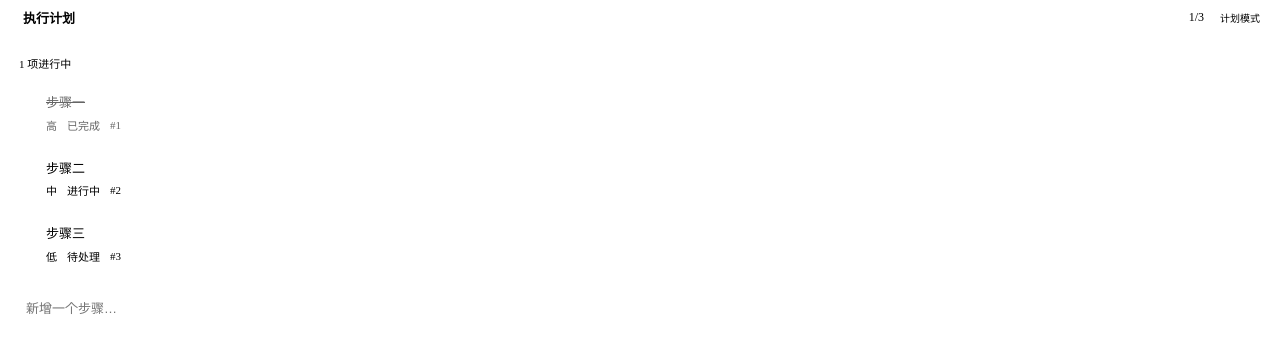
Test: PlanPanel 编辑器(对齐 EchoAgent plan-editor) › 计划新增及编辑不会被中文输入法候选确认提前提交
Type "中文步骤" into the field named "新增步骤" at [601, 308], box [16,294,1186,322]
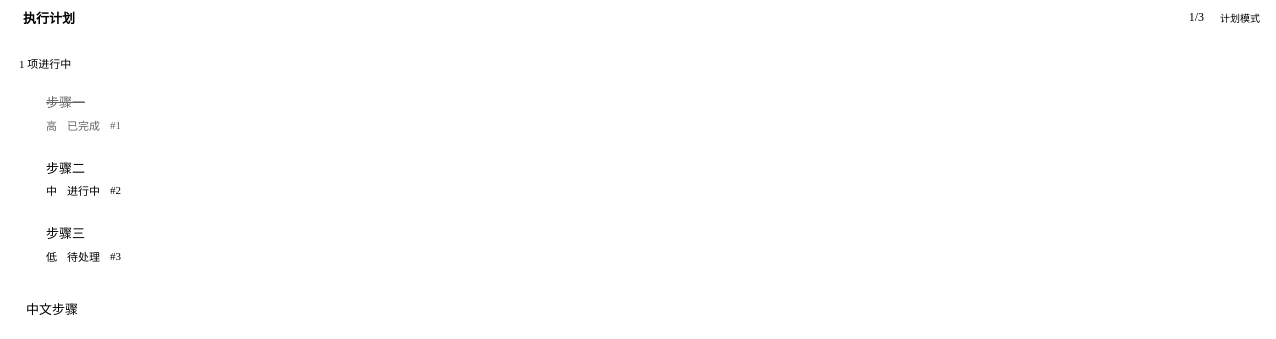
Press Enter in the field named "新增步骤", box [16,294,1186,322]
Double-click the text "步骤一" at [66, 102], box [46,95,85,110]
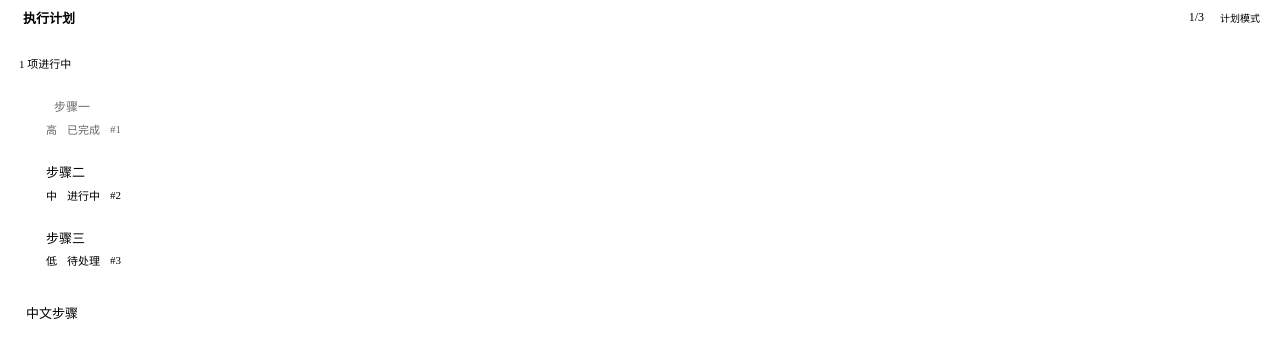
Replace the text in the field showing "步骤一" with "中文修订" at [586, 105], box [46,93,1126,117]
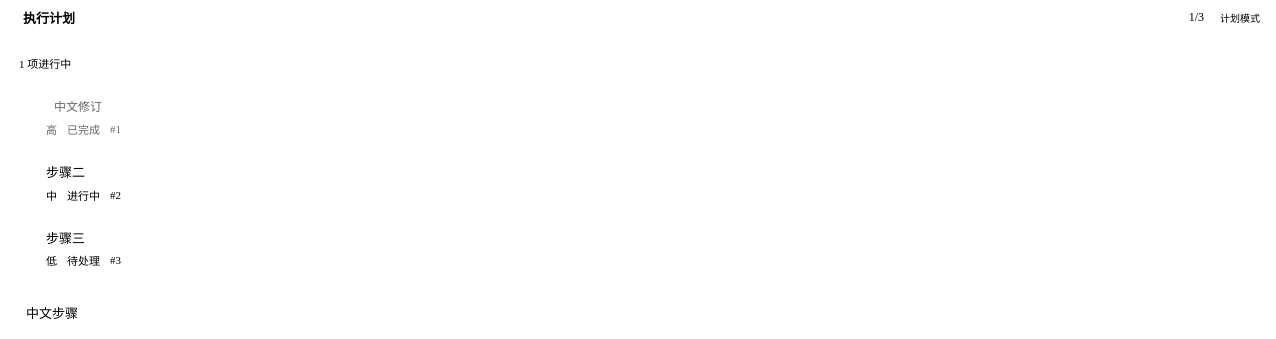
Press Enter in the field showing "步骤一", box [46,93,1126,117]
Press Escape in the field showing "步骤一", box [46,93,1126,117]
Press Enter in the field showing "中文修订", box [46,93,1126,117]
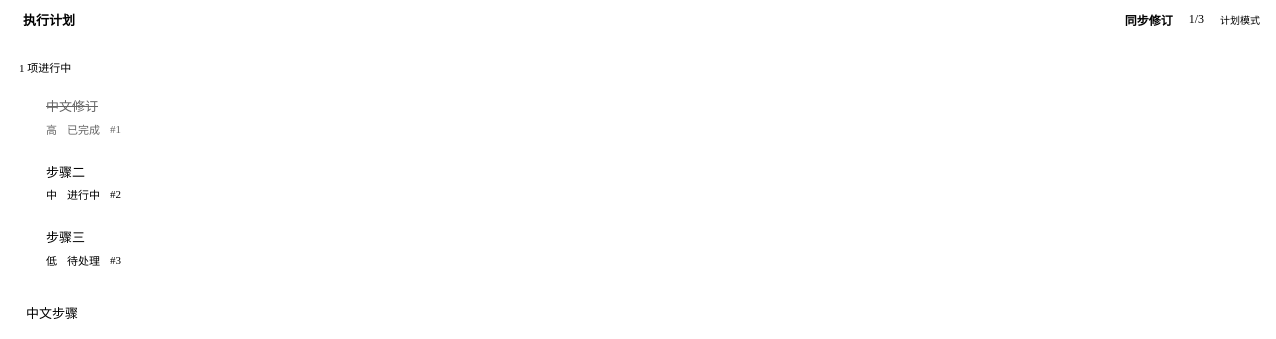
Expected: the text "步骤一" reads "中文修订", [46,99,98,114]
